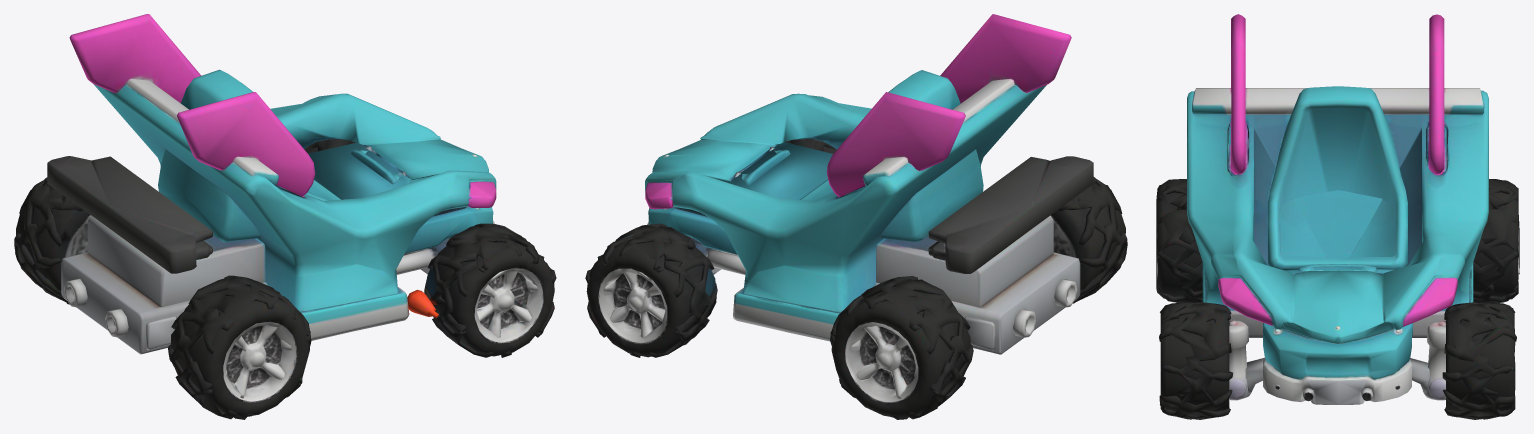
The model's file is zippy-nova-kart.glb.
3 renders of one model, left to right at view 1: azimuth 30°, elevation 25°; view 2: azimuth 150°, elevation 25°; view 3: azimuth 270°, elevation 25°, orthographic. The views are drawn at different scales.
Visible parts, largest first — view 1: tripo_node_67b2f674-7c8a-4896-ae0a-f4b40d361b7f; view 2: tripo_node_67b2f674-7c8a-4896-ae0a-f4b40d361b7f; view 3: tripo_node_67b2f674-7c8a-4896-ae0a-f4b40d361b7f.
Boxes of the visible parts, x1,y1,x2,y2 form: tripo_node_67b2f674-7c8a-4896-ae0a-f4b40d361b7f: [14, 14, 556, 419]; tripo_node_67b2f674-7c8a-4896-ae0a-f4b40d361b7f: [585, 14, 1127, 419]; tripo_node_67b2f674-7c8a-4896-ae0a-f4b40d361b7f: [1156, 14, 1519, 419].
Bounding box in the file's own units: 0.998 × 0.709 × 0.8574.
Materials: 1 (1 with a texture image).
